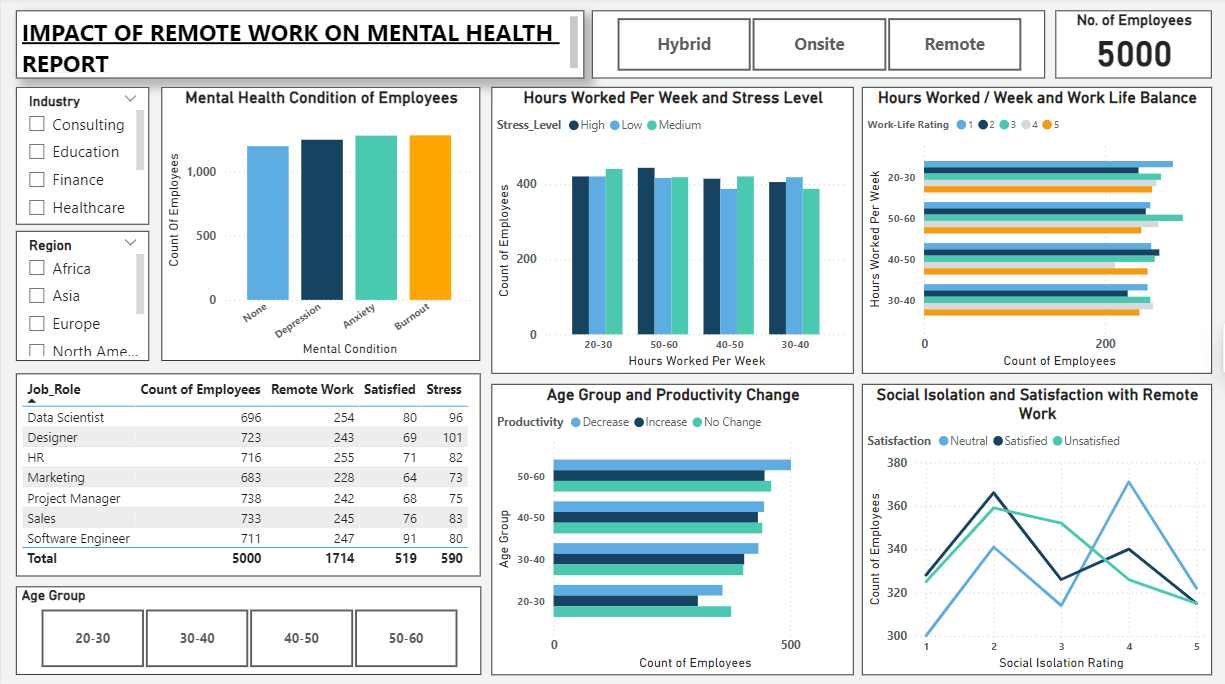

The dashboard page shown, as its layout file describes it:
{"tool":"powerbi","page":{"name":"Page 1","canvas":[1280,720],"ordinal":0},"visuals":[{"type":"textbox","box":[16.1,14.5,591.9,71],"z":0},{"type":"slicer","fields":{"Values":["remote_work remote.Region"]},"box":[16.1,243.5,138.7,135.5],"z":1000},{"type":"slicer","fields":{"Values":["remote_work remote.Industry"]},"box":[16.1,93.5,138.7,143.5],"z":2000},{"type":"clusteredColumnChart","title":"Hours Worked Per Week and Stress Level","fields":{"Category":["remote_work remote.HoursWorked/Week"],"Y":["CountNonNull(remote_work remote.Employees)"],"Series":["remote_work remote.Stress_Level"]},"box":[511.3,93.5,377.4,298.4],"z":3000},{"type":"columnChart","title":"Mental Health Condition of Employees","fields":{"Category":["remote_work remote.Mental_Health_Condition"],"Y":["CountNonNull(remote_work remote.Employees)"]},"box":[167.7,93.5,332.3,285.5],"z":4000},{"type":"clusteredBarChart","title":"Age Group and Productivity Change","fields":{"Series":["remote_work remote.Productivity_Change"],"Category":["remote_work remote.AgeGroup"],"Y":["CountNonNull(remote_work remote.Employee_ID)"]},"box":[511.3,403.2,377.4,303.2],"z":5000},{"type":"lineChart","title":"Social Isolation and Satisfaction with Remote Work","fields":{"Series":["remote_work remote.Satisfaction_with_Remote_Work"],"Category":["remote_work remote.Social_Isolation_Rating"],"Y":["CountNonNull(remote_work remote.Employee_ID)"]},"box":[896.8,403.2,364.5,303.2],"z":6000},{"type":"slicer","title":"Work Location","fields":{"Values":["remote_work remote.Work_Location"]},"box":[616.1,14.5,472,71],"z":7000},{"type":"clusteredBarChart","title":"Hours Worked / Week and Work Life Balance ","fields":{"Category":["remote_work remote.HoursWorked/Week"],"Series":["remote_work remote.Work_Life_Balance_Rating"],"Y":["CountNonNull(remote_work remote.Employee_ID)"]},"box":[896.8,93.5,364.5,298.4],"z":8000},{"type":"card","title":"No. of Employees","fields":{"Values":["CountNonNull(remote_work remote.Employee_ID)"]},"box":[1098.4,14.5,162.9,71],"z":9000},{"type":"tableEx","fields":{"Values":["remote_work remote.Job_Role","remote_work remote.Employee_ID","remote_work remote.RemoteEmployeeCount","remote_work remote.SatisfactionWithRemote","remote_work remote.Stress"]},"box":[16.1,391.9,483.9,211.3],"z":10000},{"type":"slicer","title":"Age Group","fields":{"Values":["remote_work remote.AgeGroup"]},"box":[15.6,614.3,484.5,92.2],"z":10001}]}

Visuals, with their boxes in screenshot pixels (x1, y1, x2, y2), scaled from the page's 1280x720 canvas onto the 1225x684 screenshot:
textbox: [15, 14, 582, 81]
slicer - remote_work remote.Region: [15, 231, 148, 360]
slicer - remote_work remote.Industry: [15, 89, 148, 225]
"Hours Worked Per Week and Stress Level" clusteredColumnChart: [489, 89, 851, 372]
"Mental Health Condition of Employees" columnChart: [160, 89, 479, 360]
"Age Group and Productivity Change" clusteredBarChart: [489, 383, 851, 671]
"Social Isolation and Satisfaction with Remote Work" lineChart: [858, 383, 1207, 671]
"Work Location" slicer: [590, 14, 1041, 81]
"Hours Worked / Week and Work Life Balance " clusteredBarChart: [858, 89, 1207, 372]
"No. of Employees" card: [1051, 14, 1207, 81]
tableEx - remote_work remote.Job_Role x remote_work remote.Employee_ID: [15, 372, 479, 573]
"Age Group" slicer: [15, 584, 479, 671]
